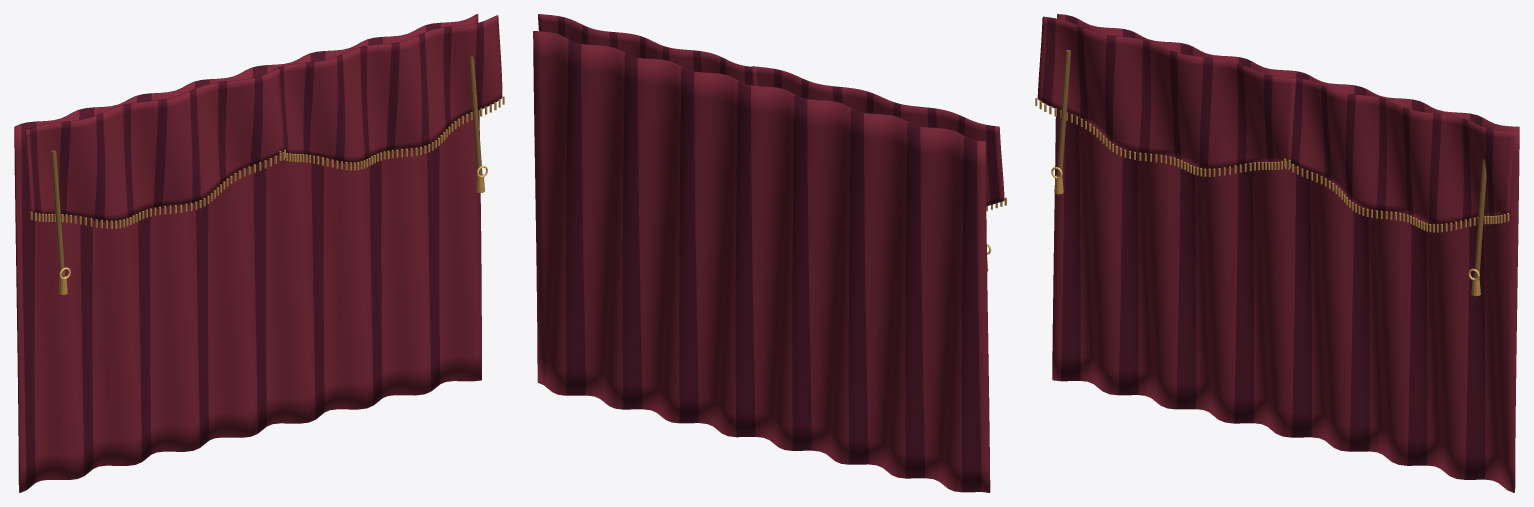
File: SM_StandIn_ExhibitCurtains.fbx
The picture shows the model from 3 angles, left to right: view 1: azimuth 30°, elevation 25°; view 2: azimuth 150°, elevation 25°; view 3: azimuth 330°, elevation 25°; orthographic projection. The views are drawn at different scales.
Parts seen in each view (by area): view 1: SM_StandIn_ExhibitCurtains; view 2: SM_StandIn_ExhibitCurtains; view 3: SM_StandIn_ExhibitCurtains.
Part boxes in pixels (bbox=[...]): SM_StandIn_ExhibitCurtains: bbox=[14, 14, 504, 492]; SM_StandIn_ExhibitCurtains: bbox=[533, 14, 1006, 492]; SM_StandIn_ExhibitCurtains: bbox=[1035, 14, 1519, 492].
Bounding box in the file's own units: 806 × 85.6 × 599.
